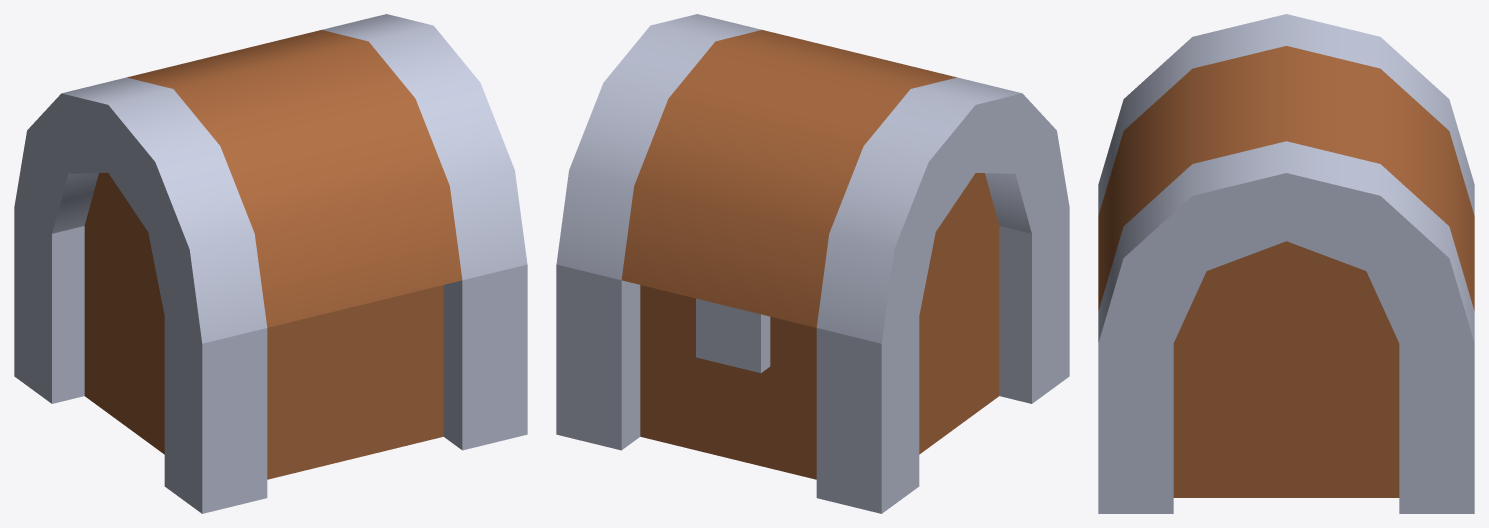
Rendered from chest.glb.
The picture shows the model from 3 angles, left to right: view 1: azimuth 30°, elevation 25°; view 2: azimuth 150°, elevation 25°; view 3: azimuth 270°, elevation 25°; orthographic projection.
Visible parts, largest first — view 1: lid, chest; view 2: lid, chest; view 3: lid, chest.
Part boxes in pixels (<box>): lid: <box>14,14,527,343</box>; chest: <box>14,206,527,513</box>; lid: <box>556,14,1069,343</box>; chest: <box>556,206,1069,513</box>; lid: <box>1098,14,1474,343</box>; chest: <box>1098,327,1474,513</box>.
Size of the model in its own units: 0.5 by 0.5 by 0.5.
